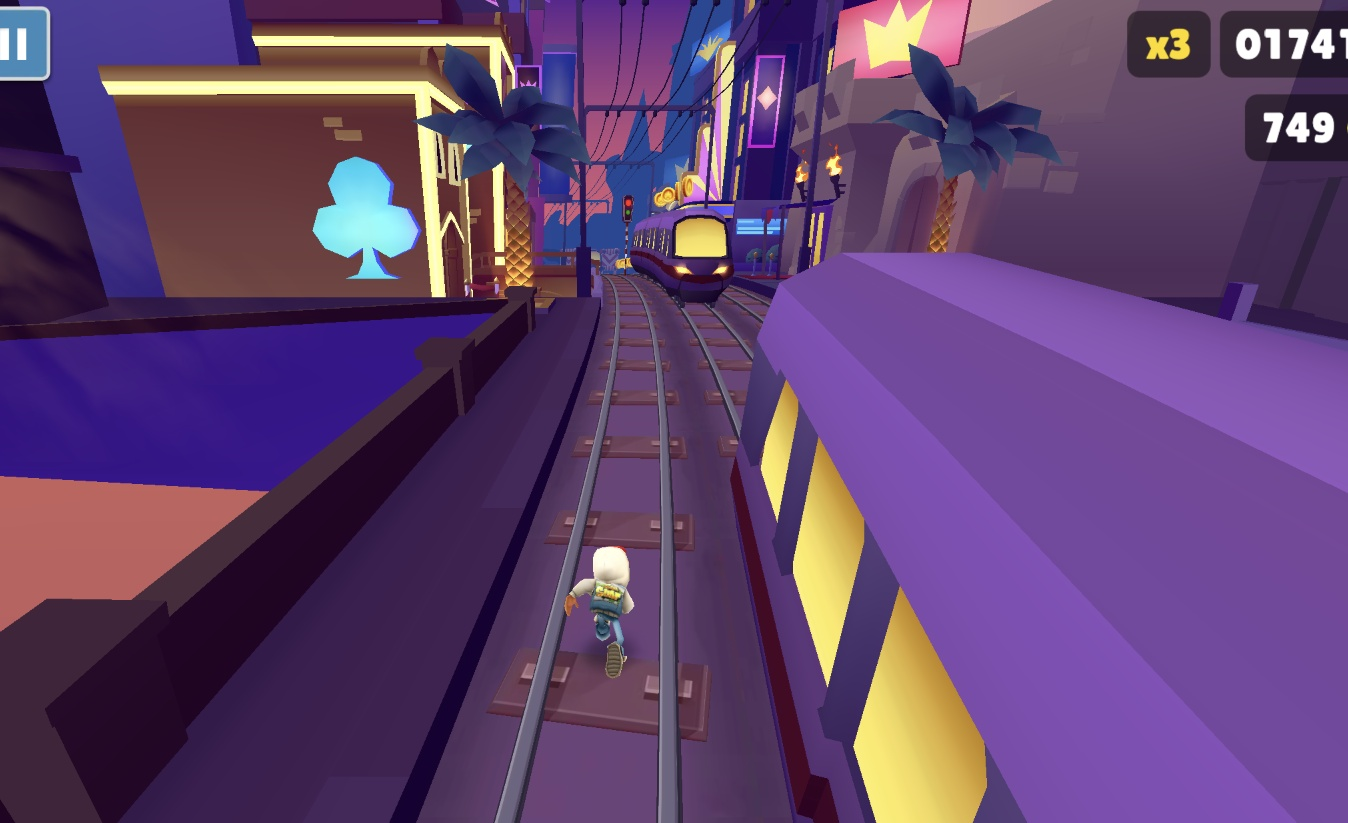ground_barrier: (600, 250, 618, 277)
train: (736, 251, 1348, 823), (629, 207, 735, 305)
